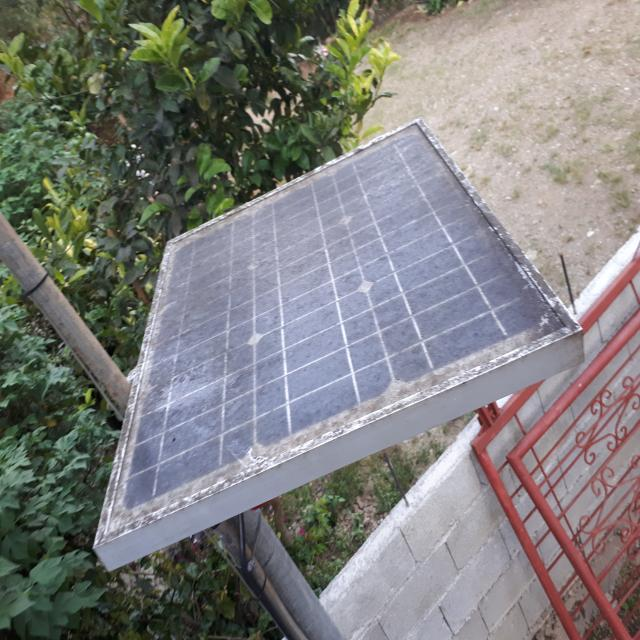dust-solar-panel: (97, 119, 584, 541)
